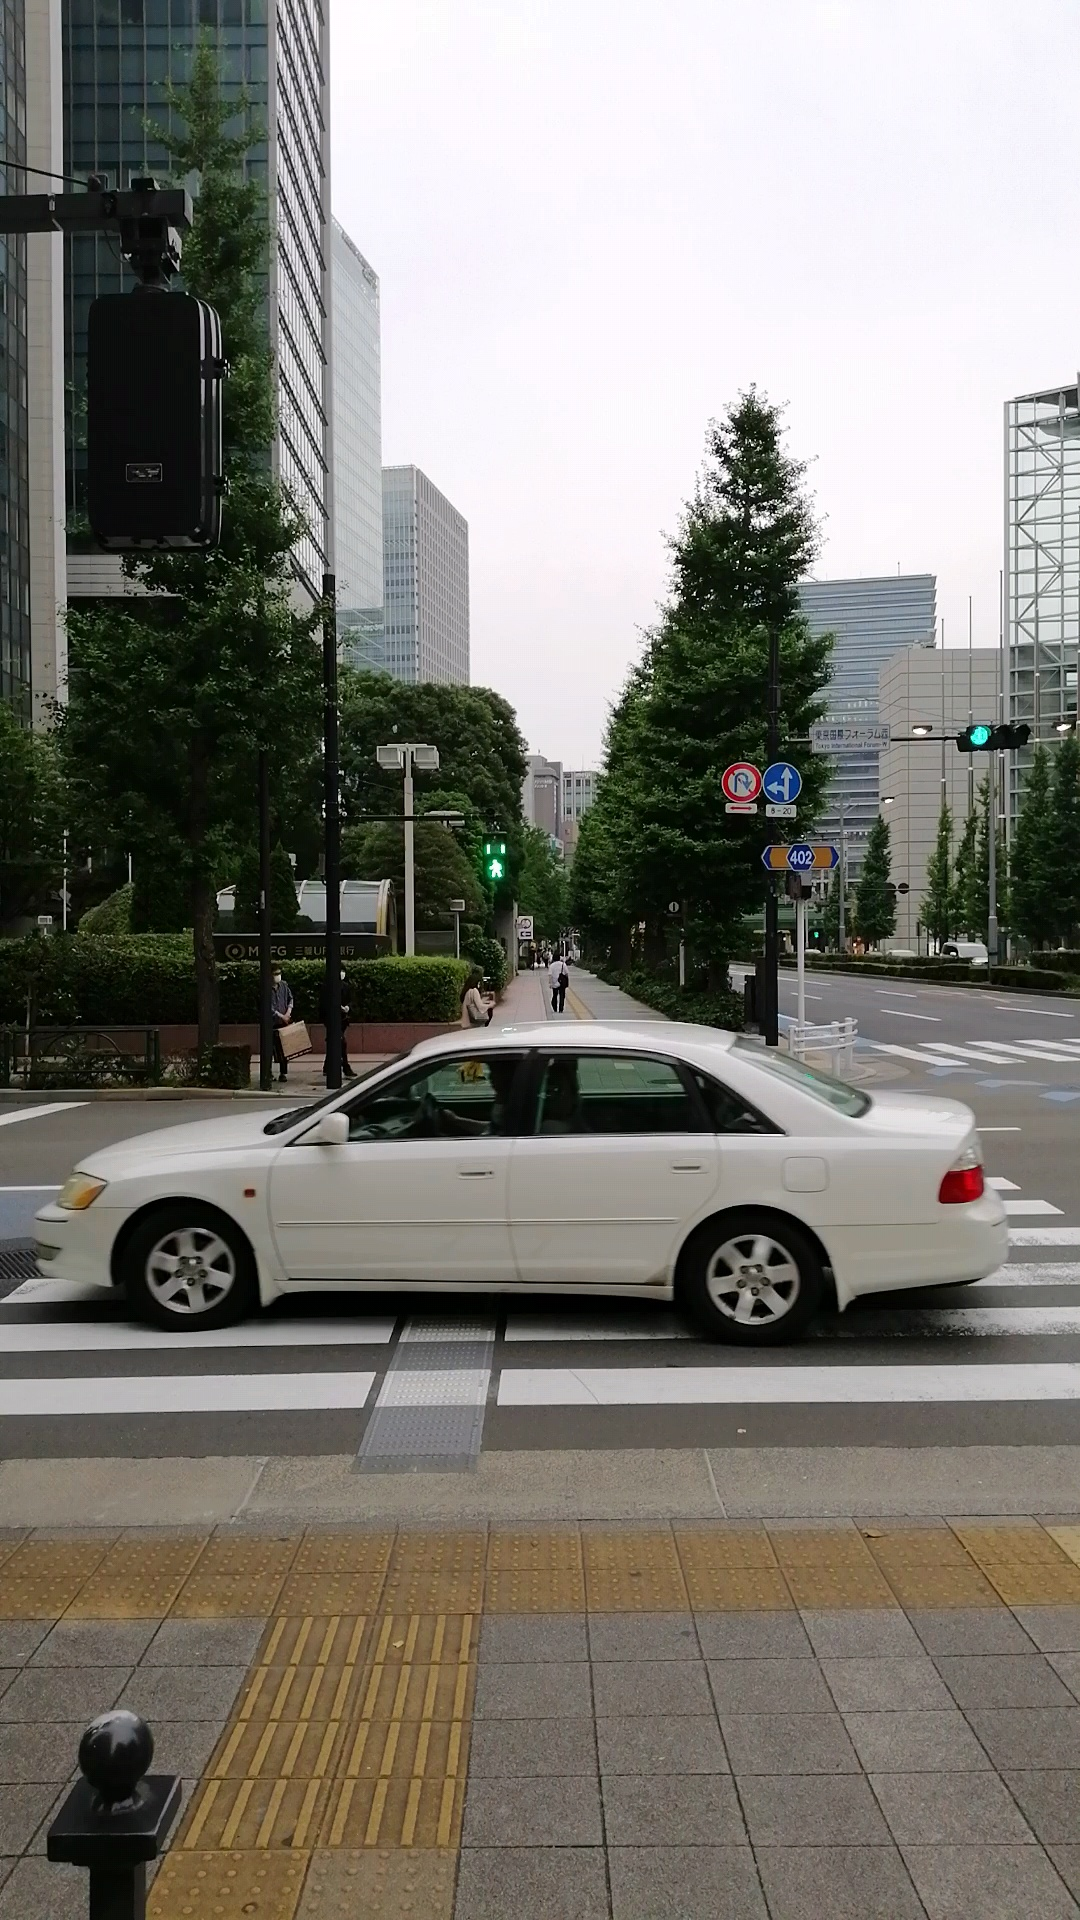green: (480, 831, 508, 884)
